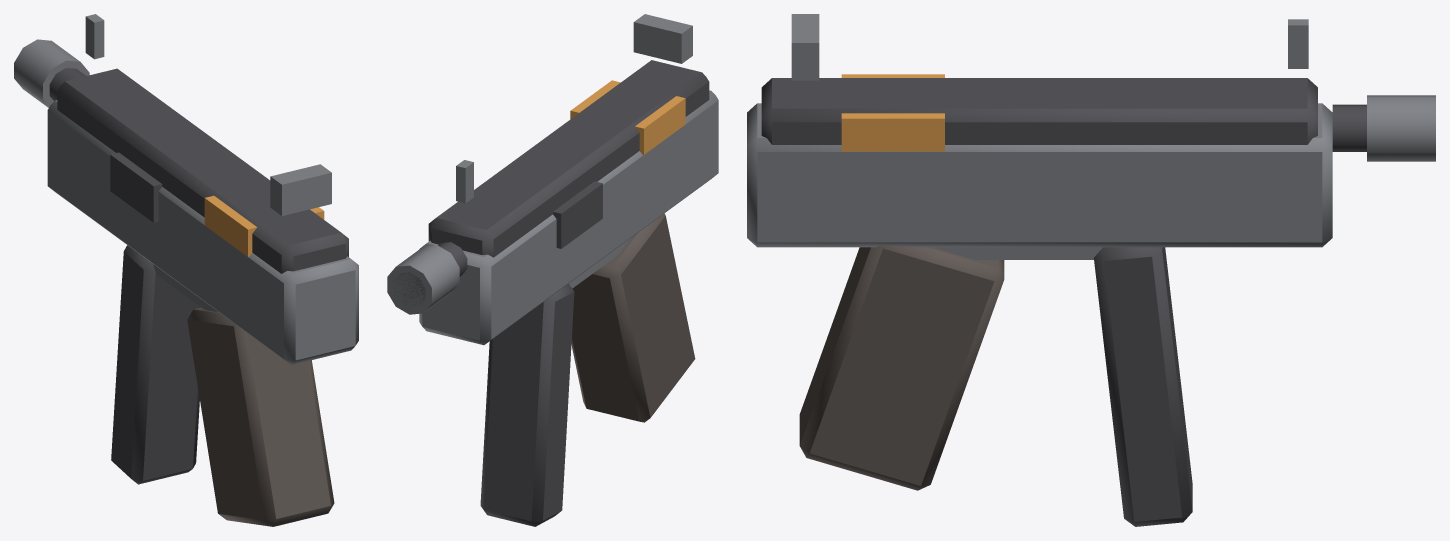
The picture shows the model from 3 angles, left to right: view 1: azimuth 30°, elevation 25°; view 2: azimuth 150°, elevation 25°; view 3: azimuth 270°, elevation 25°; orthographic projection. The views are drawn at different scales.
Parts seen in each view (by area): view 1: wpn_p9; view 2: wpn_p9; view 3: wpn_p9.
Boxes of the visible parts, <box> form: wpn_p9: <box>14,14,358,526</box>; wpn_p9: <box>387,14,718,526</box>; wpn_p9: <box>747,14,1435,526</box>.
Size of what is drawn, in the model's own units: 0.0323 by 0.157 by 0.2.
